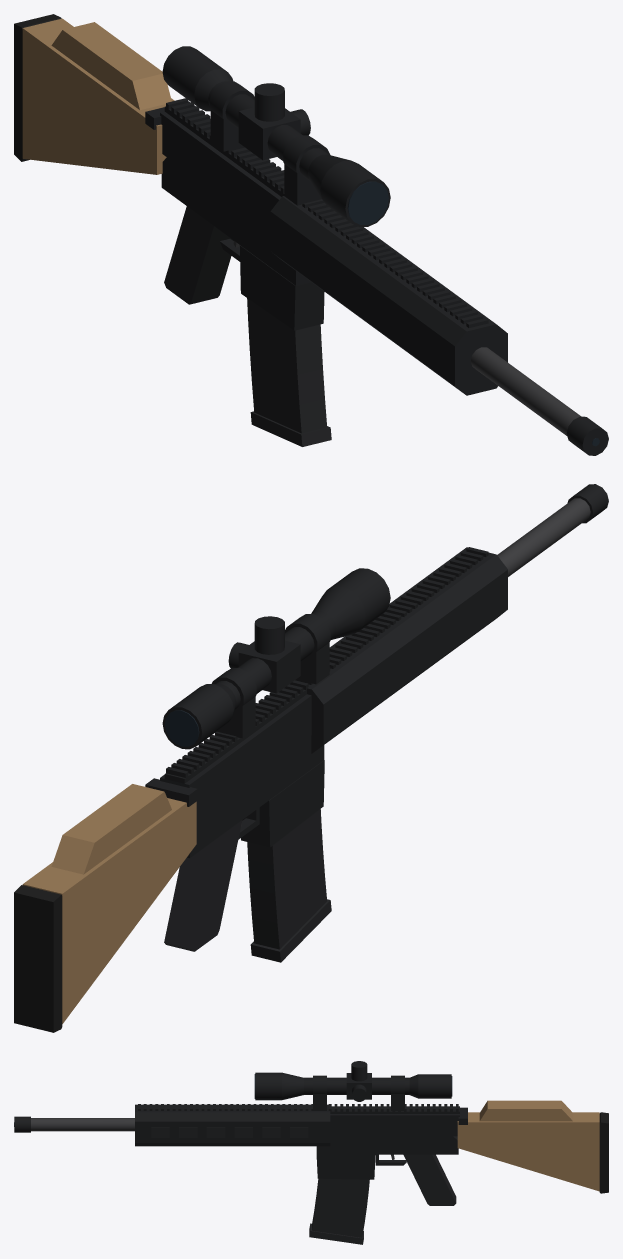
3 views of the same model, one above another, from view 1: azimuth 30°, elevation 25°; view 2: azimuth 150°, elevation 25°; view 3: azimuth 270°, elevation 25° (orthographic). The views are drawn at different scales.
Visible parts, largest first — view 1: m110; view 2: m110; view 3: m110.
Part boxes in pixels (left/top/right/bottom): m110: left=14, top=14, right=608, bottom=455; m110: left=14, top=484, right=608, bottom=1032; m110: left=14, top=1061, right=608, bottom=1244.
Size of the model in its own units: 0.064 by 0.3373 by 1.03.
1 material, 1 textured.
